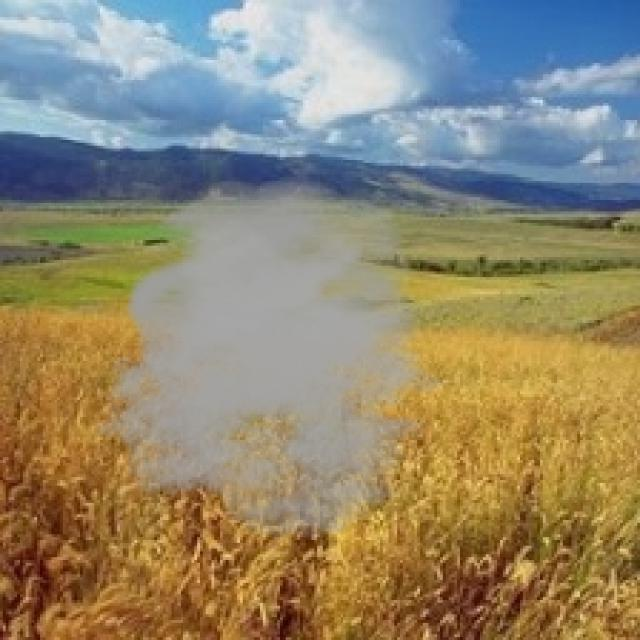Smoke: (94, 175, 466, 540)
